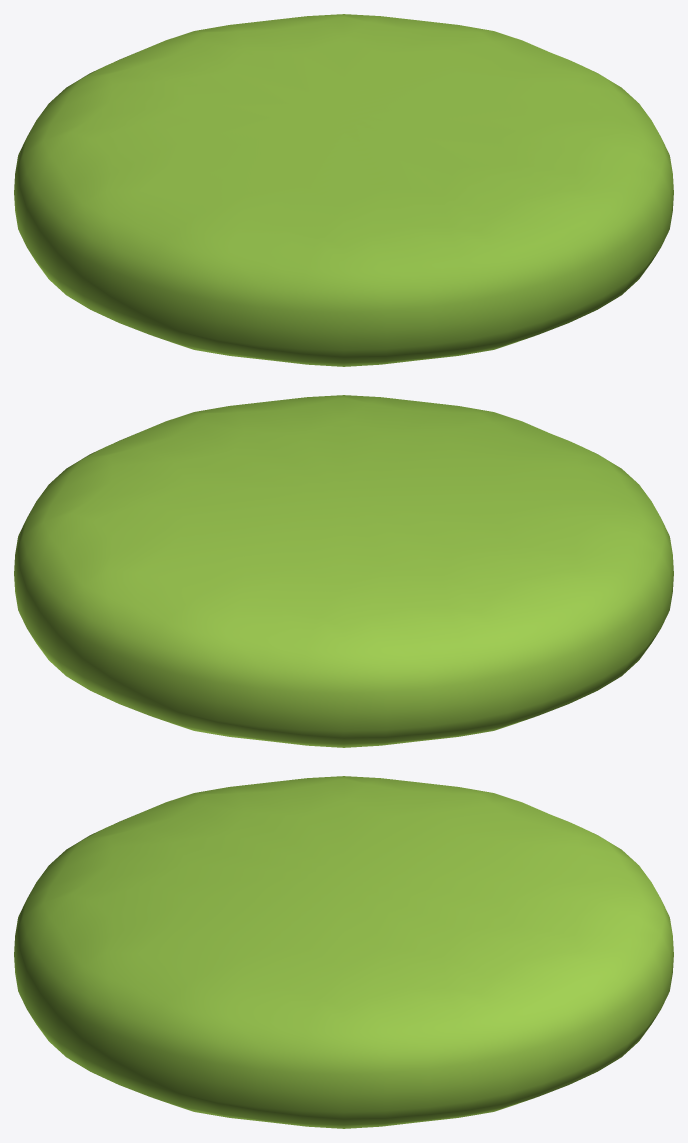
The model's file is green.glb.
The picture shows the model from 3 angles, top to bottom: view 1: azimuth 30°, elevation 25°; view 2: azimuth 150°, elevation 25°; view 3: azimuth 270°, elevation 25°; orthographic projection.
Visible parts, largest first — view 1: green; view 2: green; view 3: green.
Boxes of the visible parts, x1,y1,x2,y2 form: green: [14, 14, 673, 366]; green: [14, 395, 673, 747]; green: [14, 776, 673, 1128].
Size of the model in its own units: 0.1212 by 0.0298 by 0.1212.
1 material, 1 textured.
